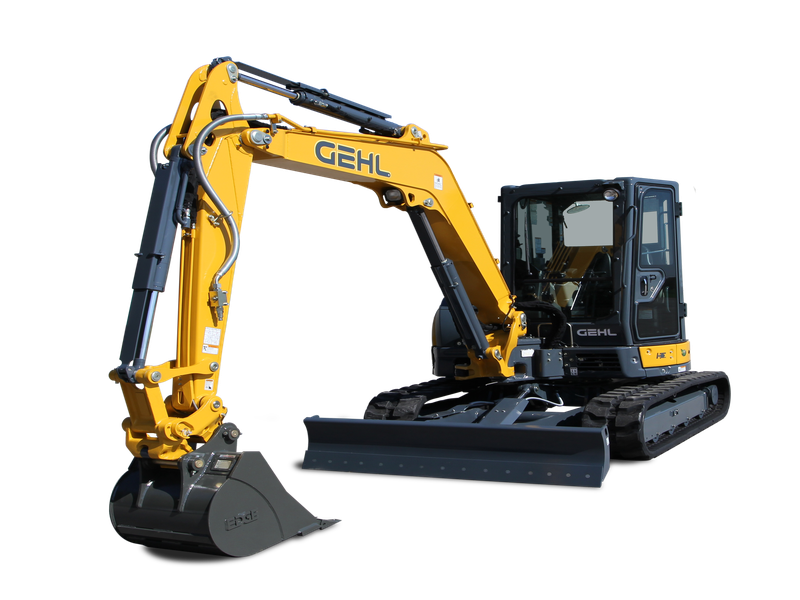shovel: (104, 53, 739, 555)
